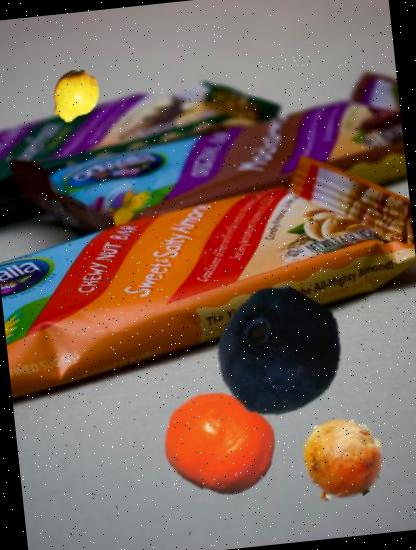Blueberry: (207, 283, 349, 426)
Clementine: (158, 382, 281, 505)
Onion: (296, 412, 389, 505)
Quince: (45, 66, 105, 126)
